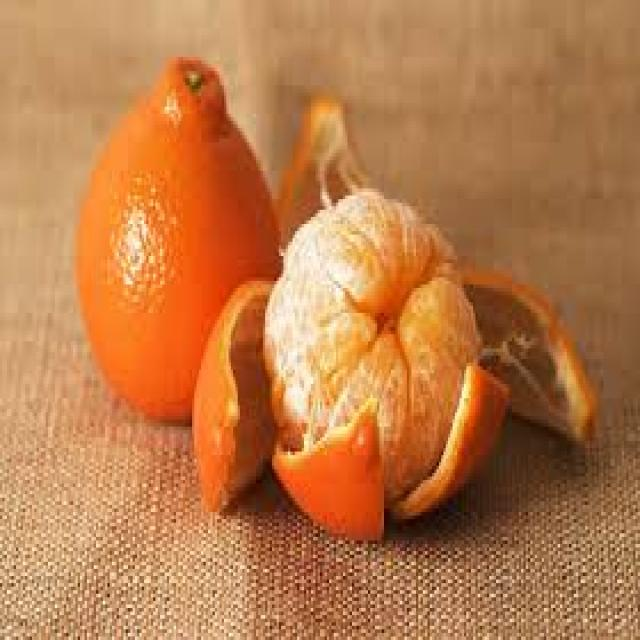orange: (70, 60, 279, 418)
